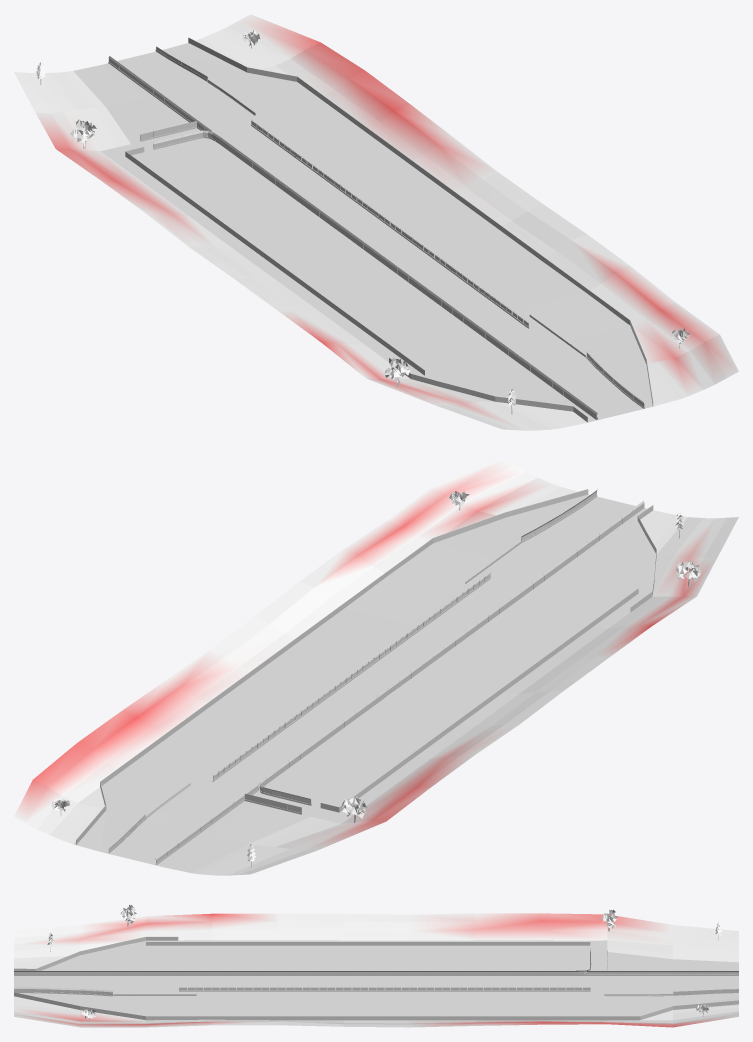
The picture shows the model from 3 angles, top to bottom: view 1: azimuth 30°, elevation 25°; view 2: azimuth 150°, elevation 25°; view 3: azimuth 270°, elevation 25°; orthographic projection. The views are drawn at different scales.
Visible parts, largest first — view 1: Track, Grass, Road, Wirefence, Trees; view 2: Track, Grass, Road, Wirefence, Trees; view 3: Track, Grass, Road, Wirefence, Trees.
Part boxes in pixels (x1,y1,x2,y2): Track: (73,37,653,422); Grass: (14,14,738,430); Road: (101,51,644,420); Wirefence: (109,46,644,419); Trees: (36,30,689,414); Track: (73,489,656,873); Grass: (14,459,738,875); Road: (109,496,646,865); Wirefence: (109,490,643,863); Trees: (51,491,700,867); Track: (14,936,738,1020); Grass: (14,913,738,1027); Road: (14,940,738,996); Wirefence: (14,951,738,995); Trees: (47,905,722,1022).
Size of what is drawn, in the model's own units: 18296 by 2021 by 50000.
